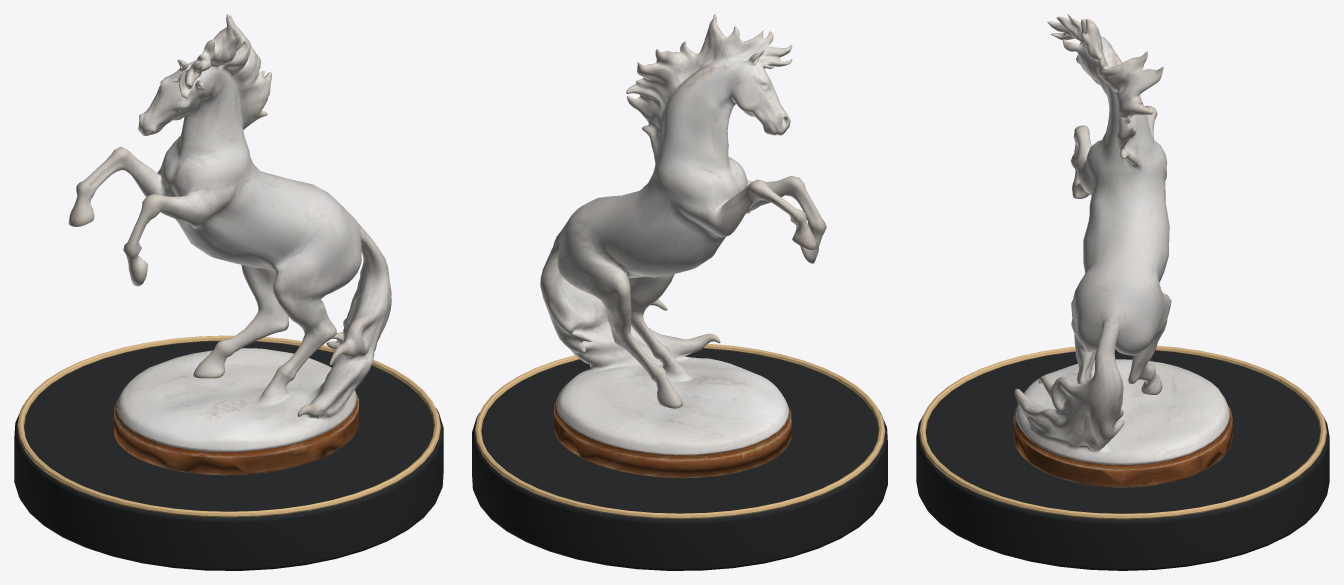
Rendered from hp_room_cc0_horse_statue_plinth.glb.
3 views of the same model, side by side, from view 1: azimuth 30°, elevation 25°; view 2: azimuth 150°, elevation 25°; view 3: azimuth 270°, elevation 25° (orthographic). The views are drawn at different scales.
Visible parts, largest first — view 1: horse_statue_01, hp_museum_low_black_plinth, hp_museum_plinth_brass_lip; view 2: horse_statue_01, hp_museum_low_black_plinth, hp_museum_plinth_brass_lip; view 3: hp_museum_low_black_plinth, horse_statue_01, hp_museum_plinth_brass_lip.
Boxes of the visible parts, x1,y1,x2,y2 form: horse_statue_01: (68,14,391,475); hp_museum_low_black_plinth: (14,341,443,570); hp_museum_plinth_brass_lip: (17,335,440,517); horse_statue_01: (540,14,826,478); hp_museum_low_black_plinth: (472,348,887,570); hp_museum_plinth_brass_lip: (474,343,885,519); hp_museum_low_black_plinth: (916,349,1329,570); horse_statue_01: (1013,14,1232,487); hp_museum_plinth_brass_lip: (919,345,1326,519).
Size of the model in its own units: 0.9972 by 1.22 by 0.9972.
Materials: 3 (1 with a texture image).
